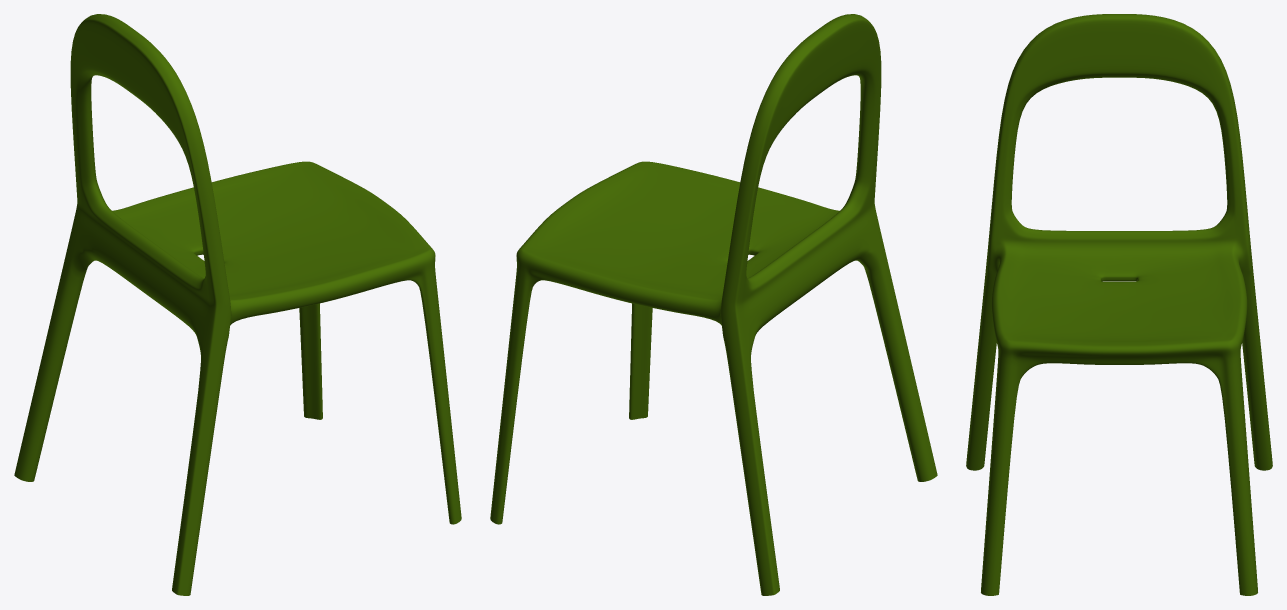
Rendered from chair.FBX.
3 renders of one model, left to right at view 1: azimuth 30°, elevation 25°; view 2: azimuth 150°, elevation 25°; view 3: azimuth 270°, elevation 25°, orthographic. The views are drawn at different scales.
Parts seen in each view (by area): view 1: Urban; view 2: Urban; view 3: Urban.
Part boxes in pixels (left/top/right/bottom): Urban: left=14, top=14, right=461, bottom=595; Urban: left=490, top=14, right=937, bottom=595; Urban: left=966, top=14, right=1272, bottom=595.
Size of the model in its own units: 55.08 by 89.23 by 53.41.
